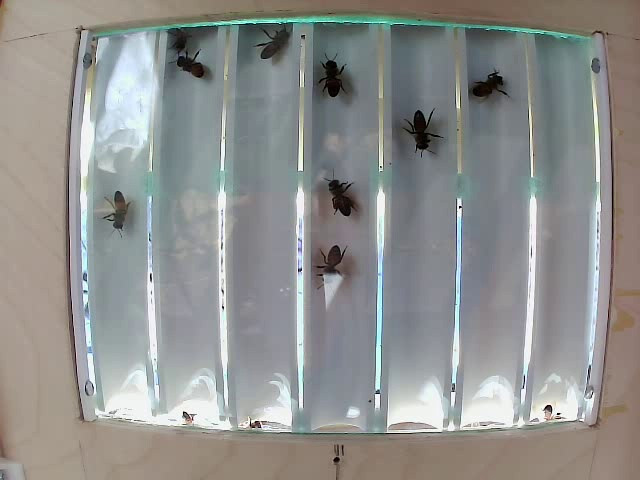bee: (309, 232, 356, 299), (401, 107, 441, 177), (319, 169, 364, 231), (317, 58, 372, 107), (99, 188, 145, 242), (462, 61, 508, 108), (258, 24, 296, 78), (166, 43, 208, 82)
